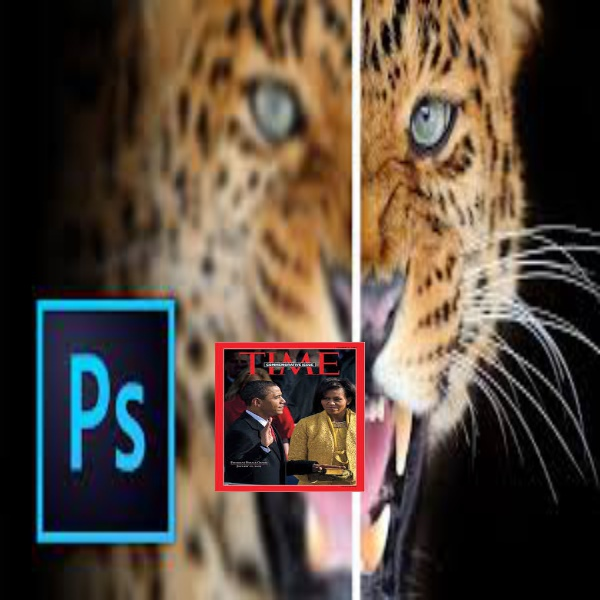time_cover: (221, 342, 374, 492)
